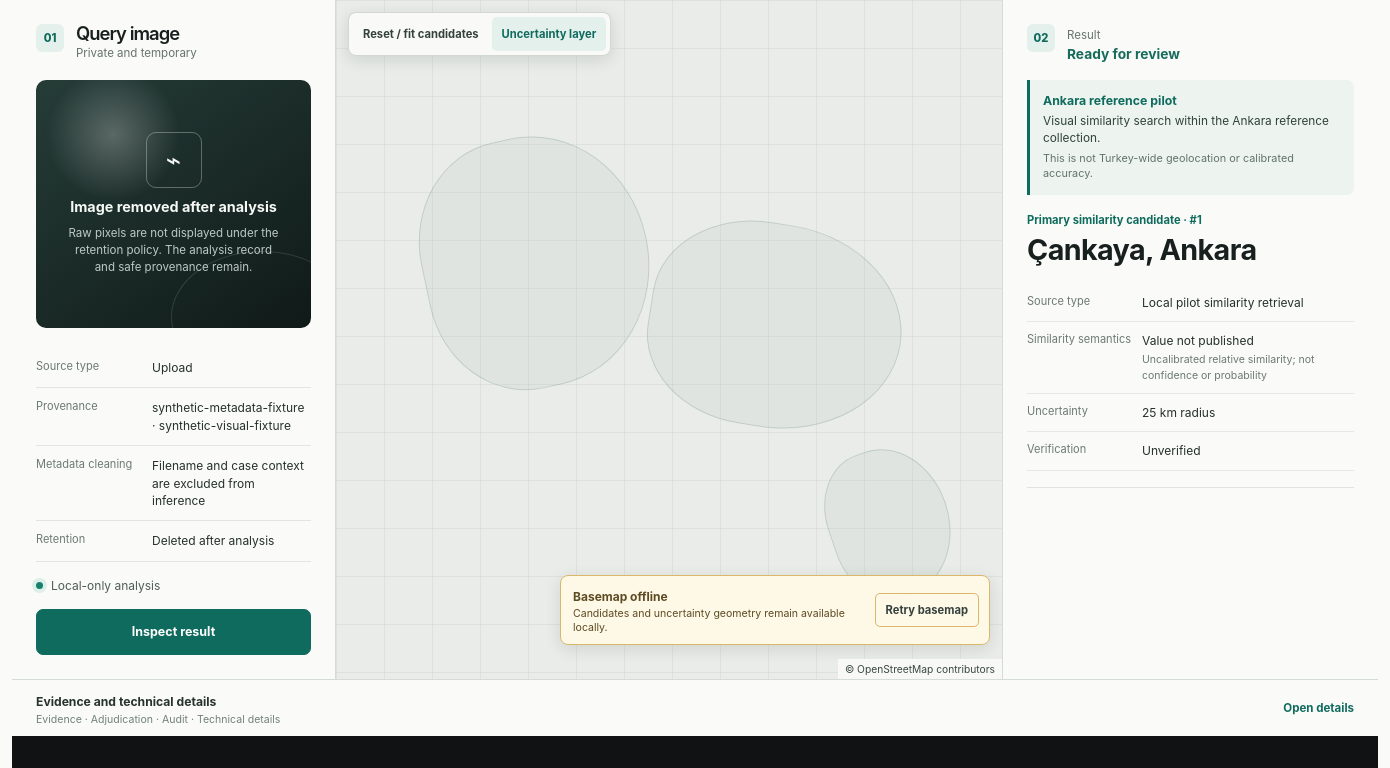
Test: Phase 3E investor map-first workspace › keeps a deleted query private and exposes technical material only in the compact drawer
The width and height of the screenshot is (1390, 768).
Expected: the text "Image removed after analysis" is shown, [70, 198, 277, 215]
Expected: the text "Raw pixels are not displayed" is shown, [68, 226, 278, 274]
Click the button "Evidence and technical details": x=126, y=701 [12, 680, 1378, 736]
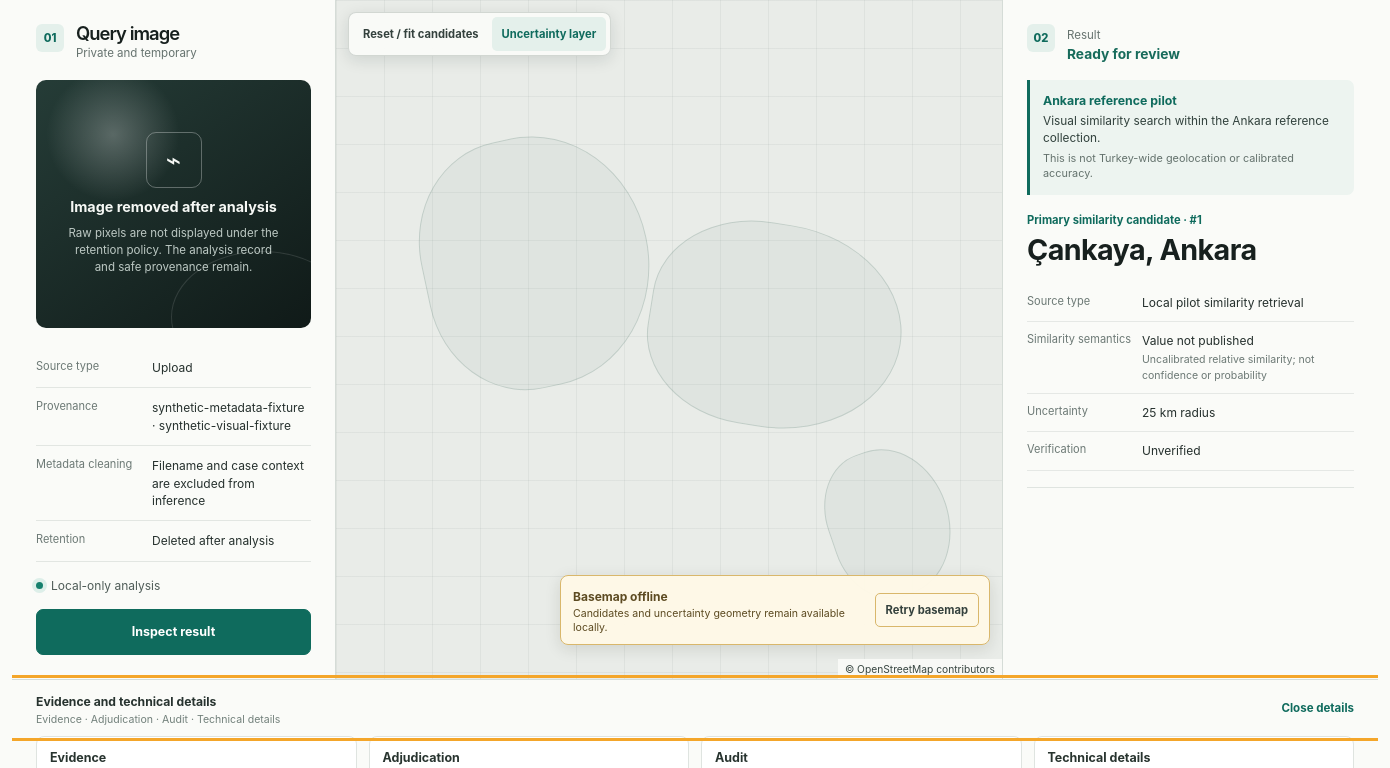
Result: the heading "Technical details" is shown at [1048, 750, 1150, 765]
